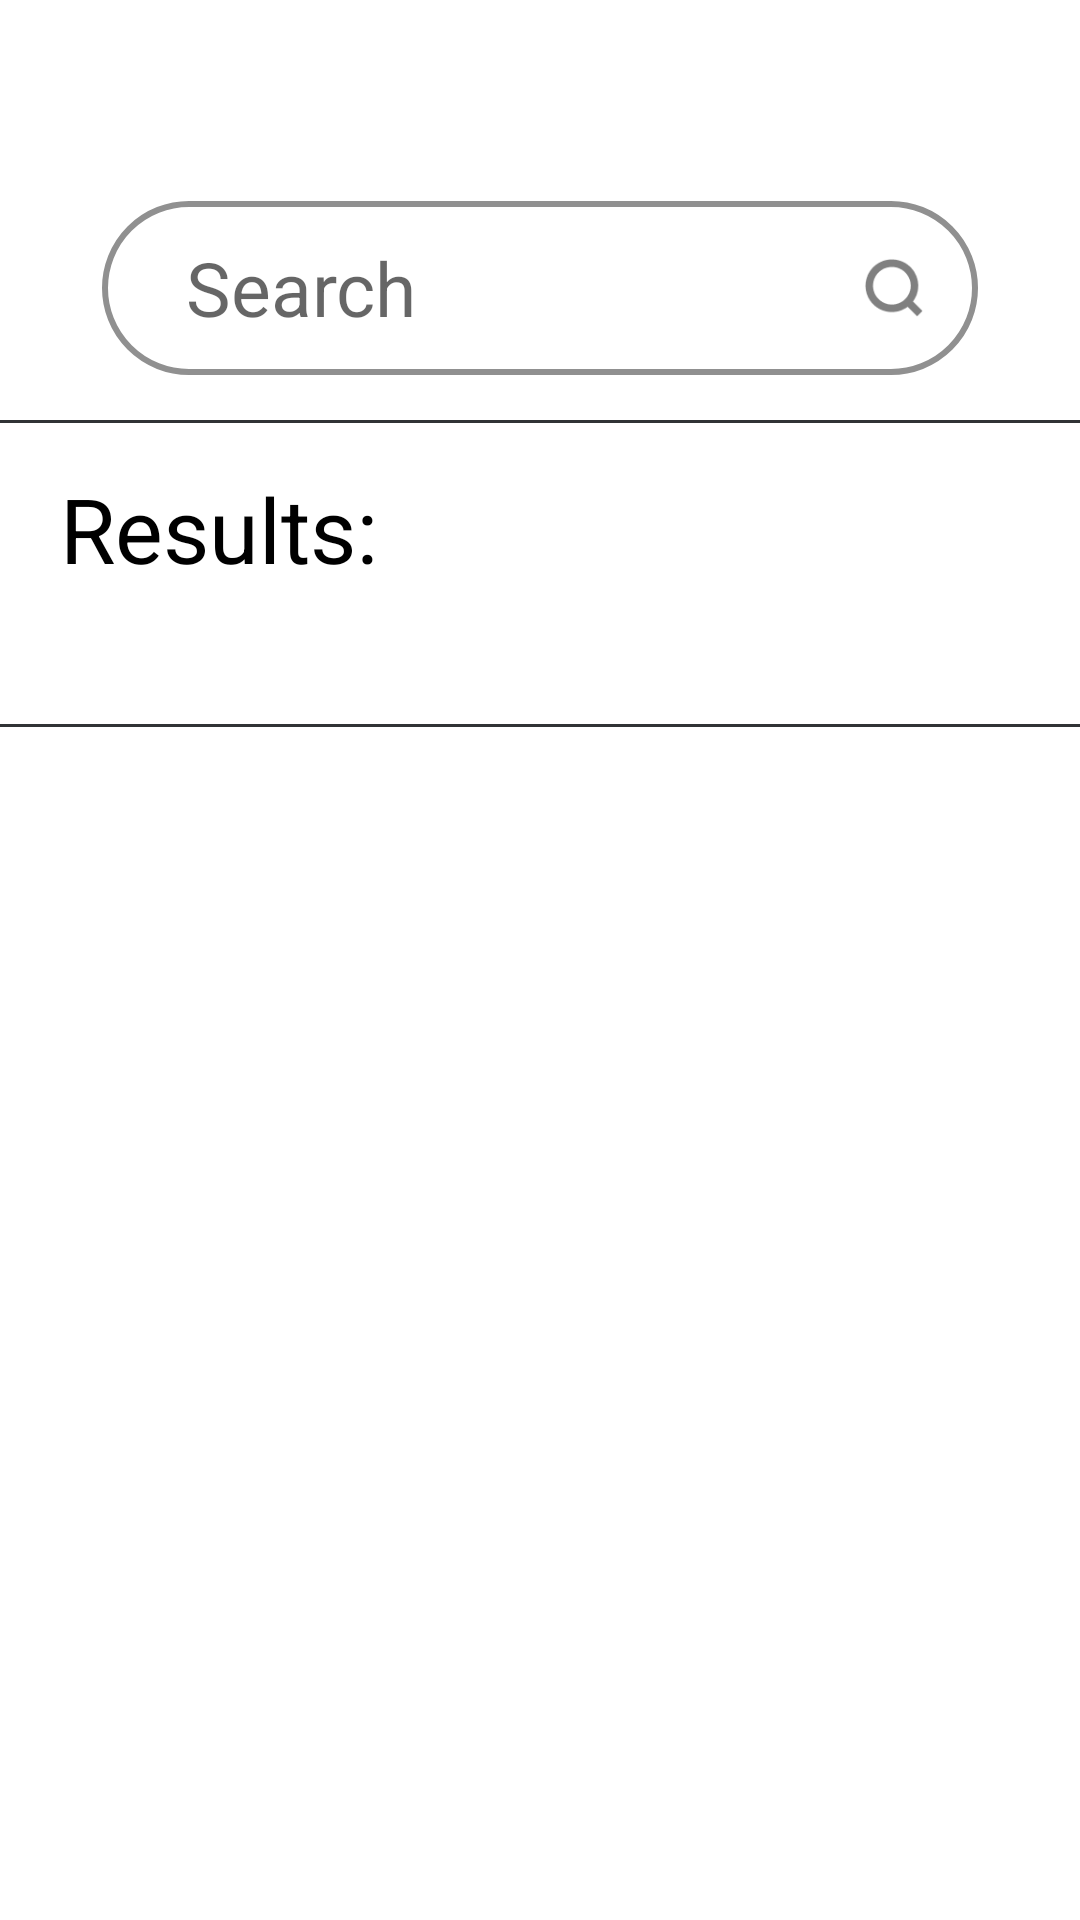

Icon click points for this 1080 × 1920 phone screenshot, format (x=x, y=y):
search: (x=893, y=287)
